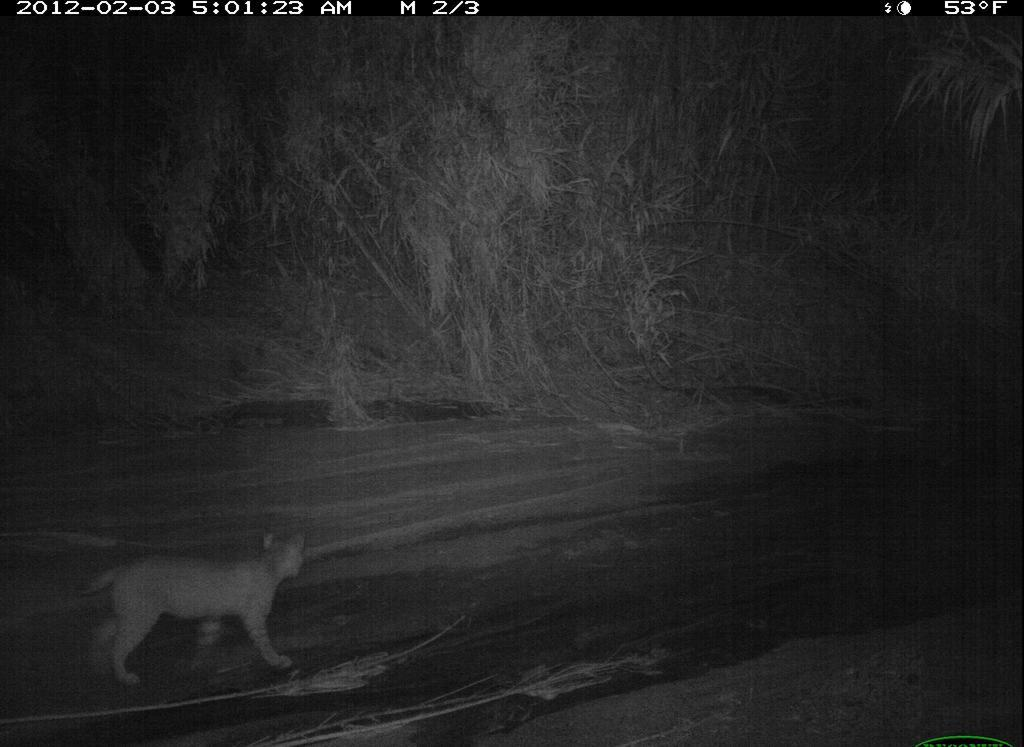bobcat: (80, 528, 309, 692)
